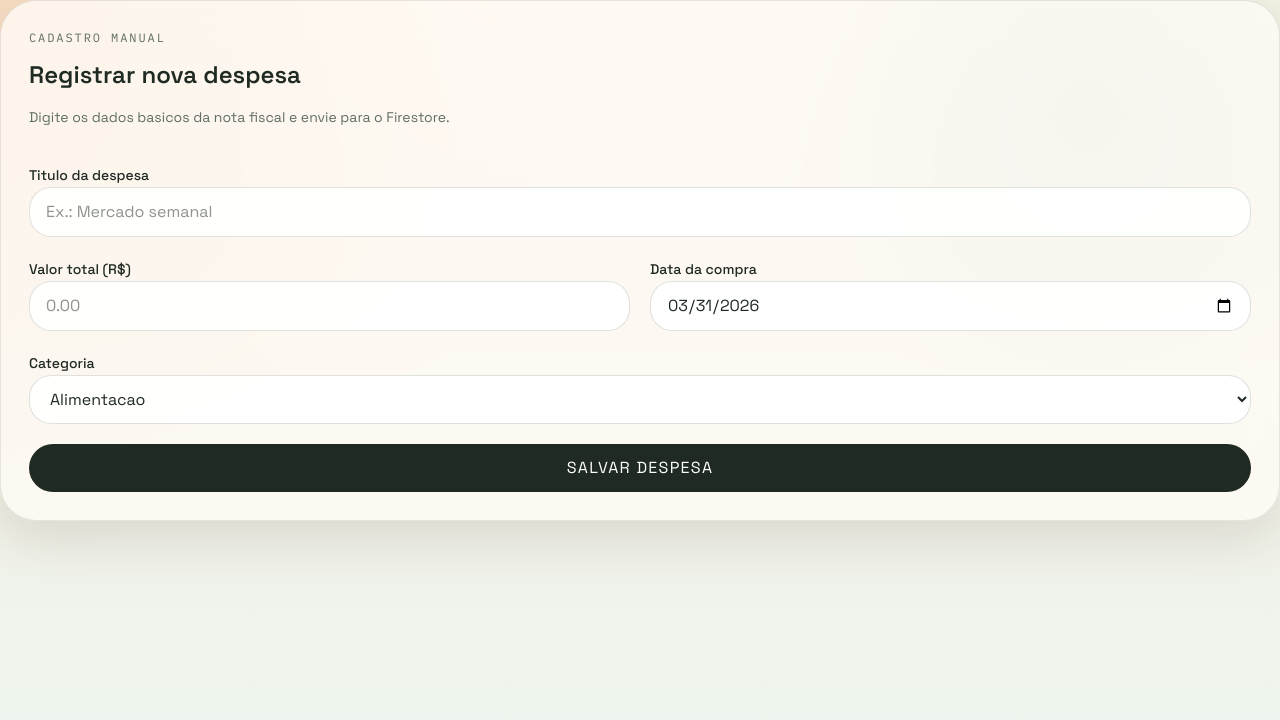
Test case: ManualExpenseForm › envia os dados normalizados e limpa o formulario apos o cadastro
This screenshot has width=1280, height=720.
Type "Mercado semanal" into the field labelled "Titulo da despesa" at coordinates (640, 212), box [29,187,1251,237]
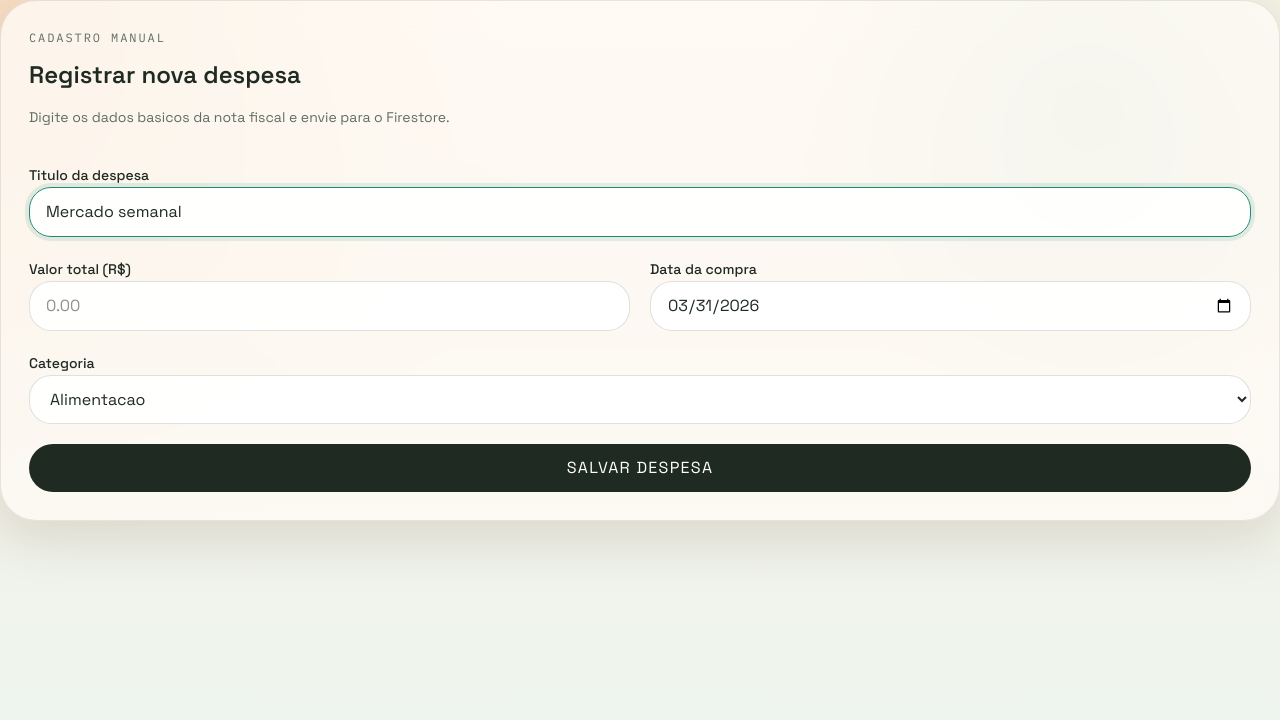
Type "123.45" into the number field labelled "Valor total (R$)" at coordinates (330, 306), box [29,281,630,331]
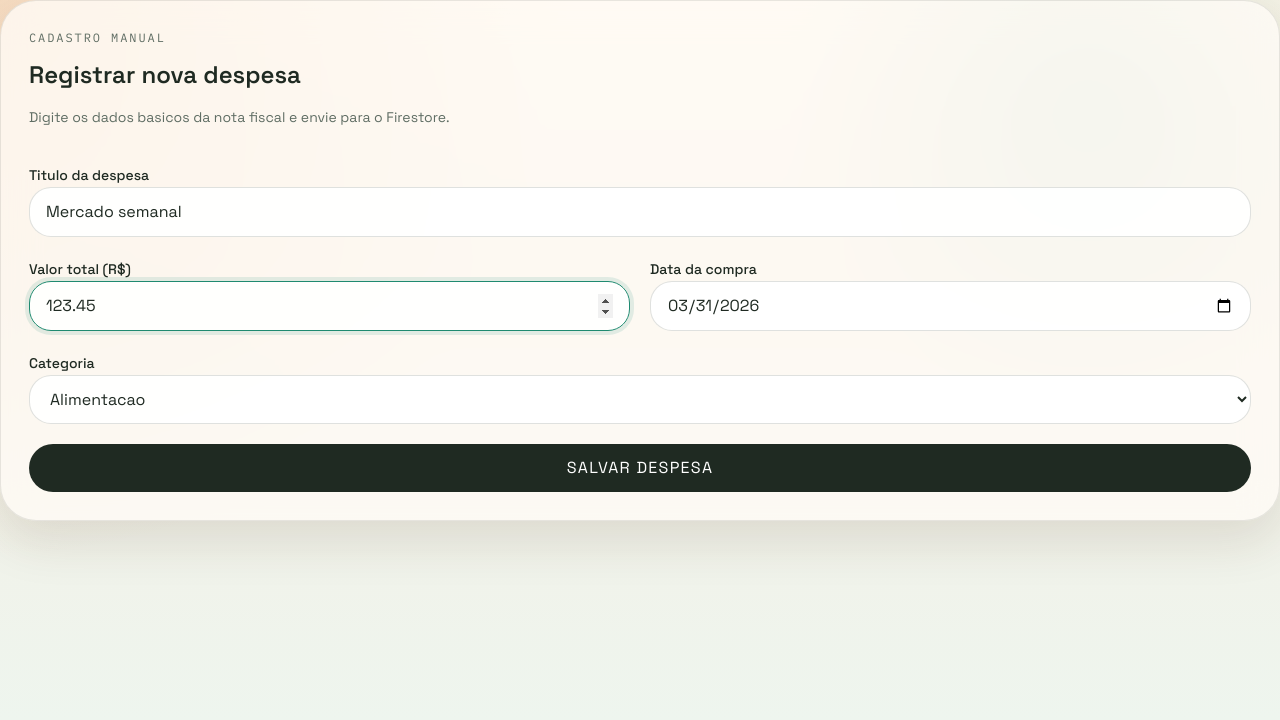
Type "2026-03-30" into the date field labelled "Data da compra" at coordinates (950, 306), box [650,281,1251,331]
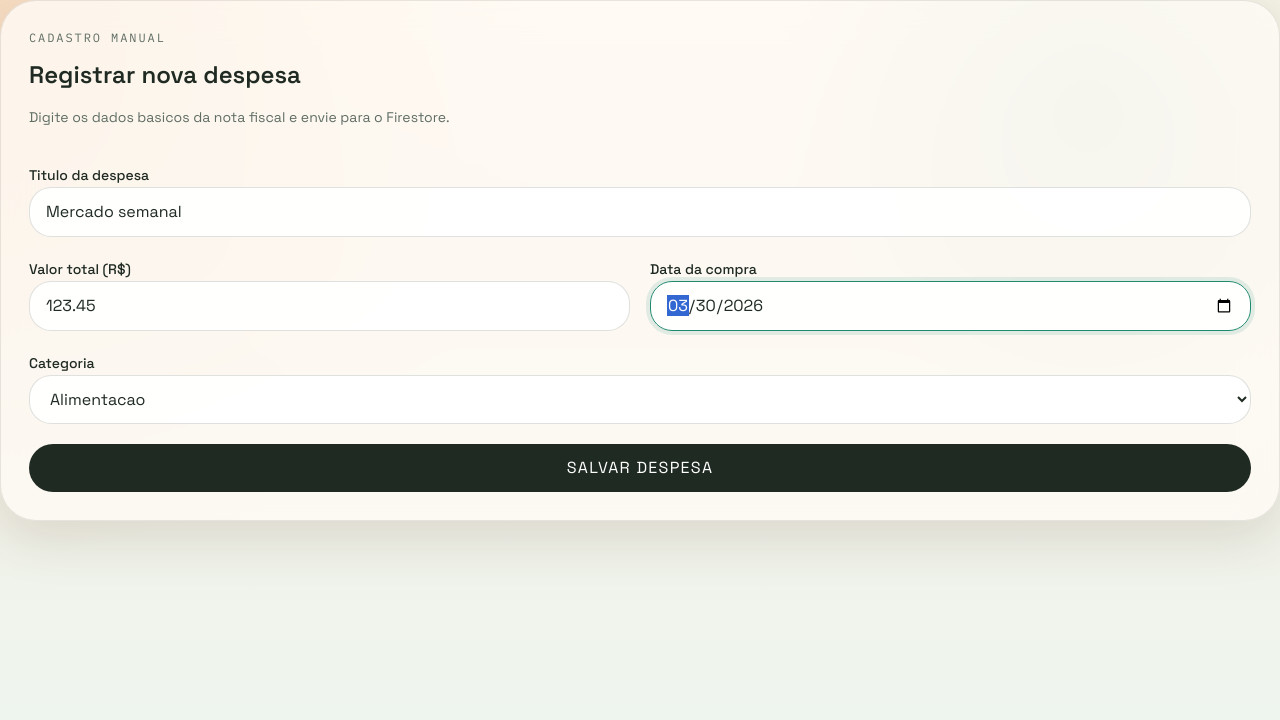
Select "Saude" in the dropdown labelled "Categoria" at coordinates (640, 400), box [29,375,1251,424]
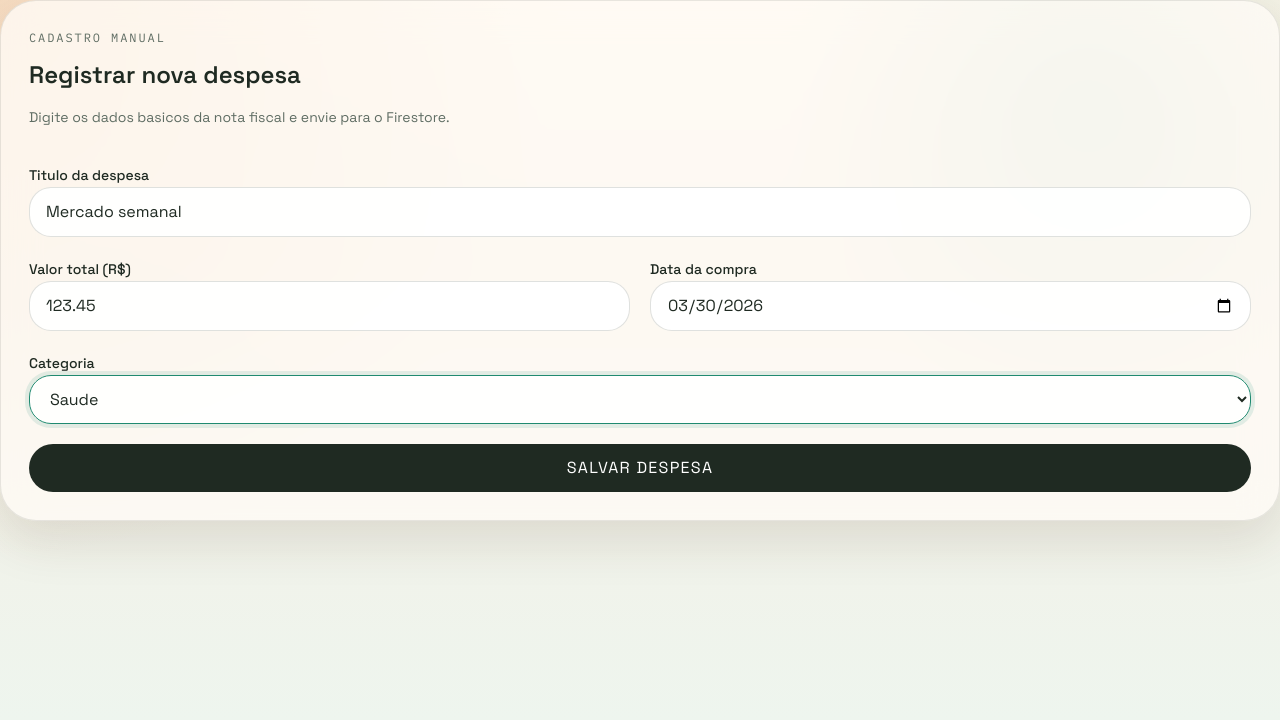
Click the button "Salvar despesa" at coordinates (640, 468), box [29,444,1251,492]
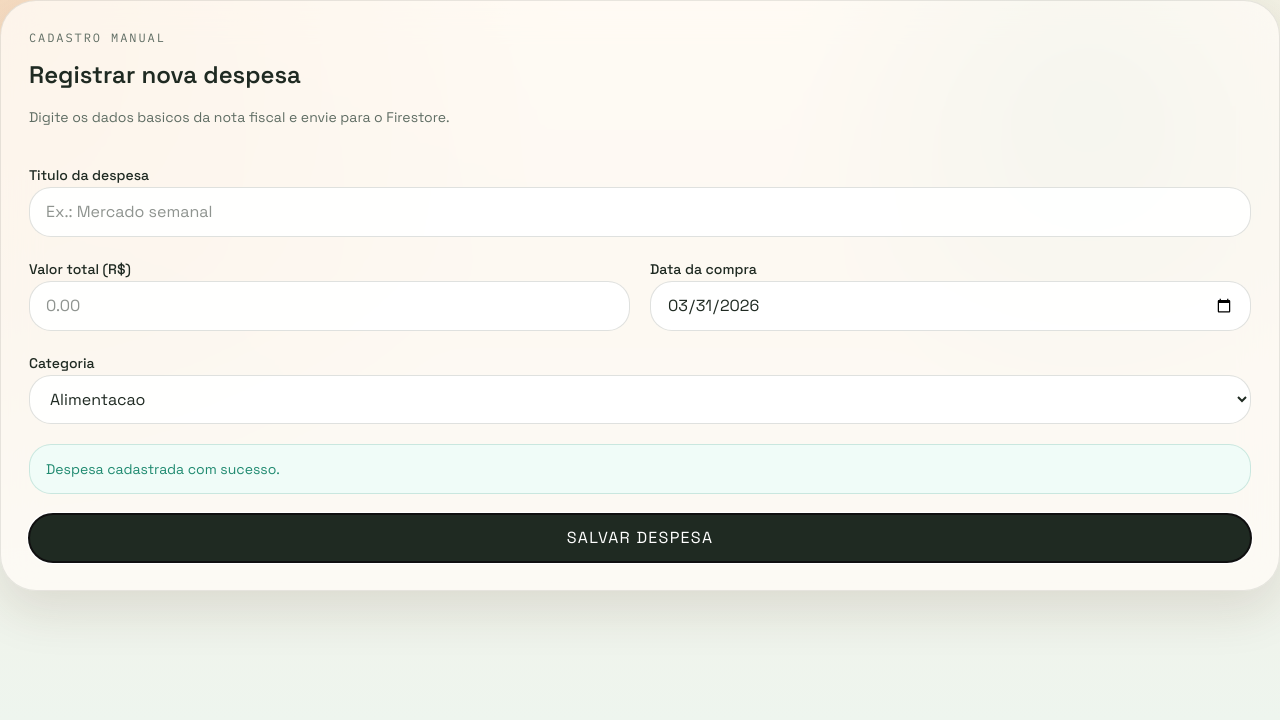
Result: the text "Despesa cadastrada com sucesso." is shown at [29,444,1251,494]
Result: the field labelled "Titulo da despesa" is empty at [29,187,1251,237]
Result: the number field labelled "Valor total (R$)" is not empty at [29,281,630,331]
